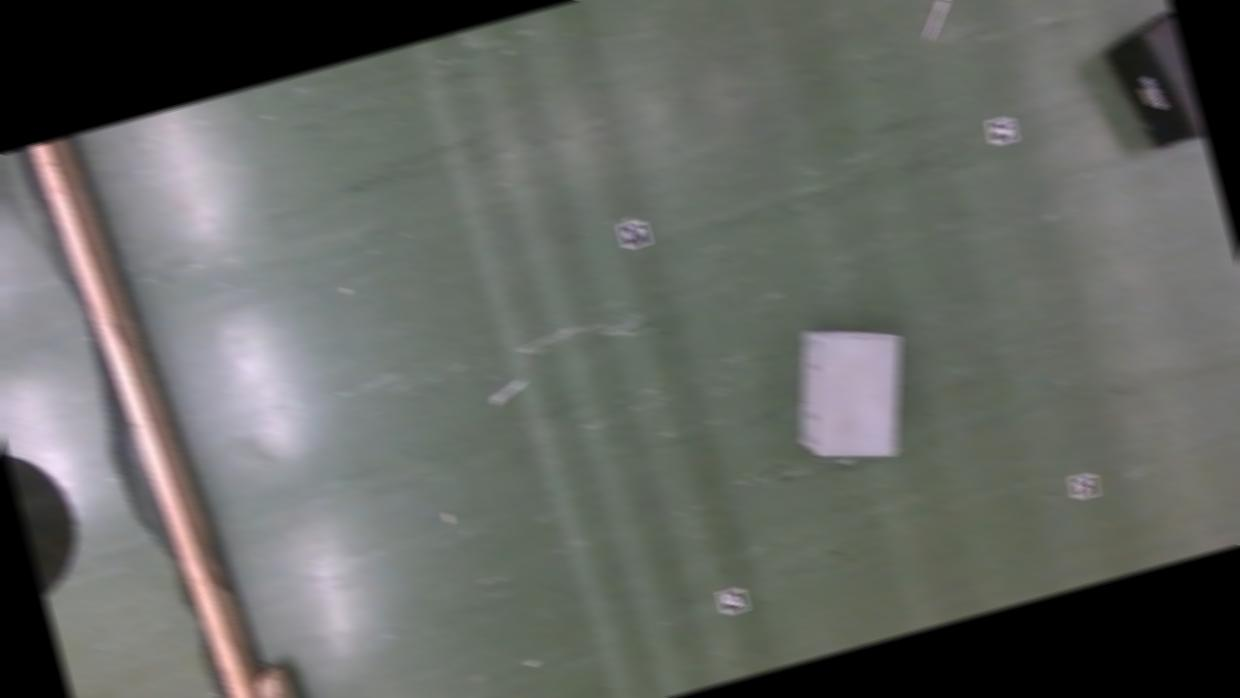probes: (916, 0, 955, 37), (488, 377, 530, 404)
rako: (771, 306, 930, 474), (1097, 4, 1207, 154)
